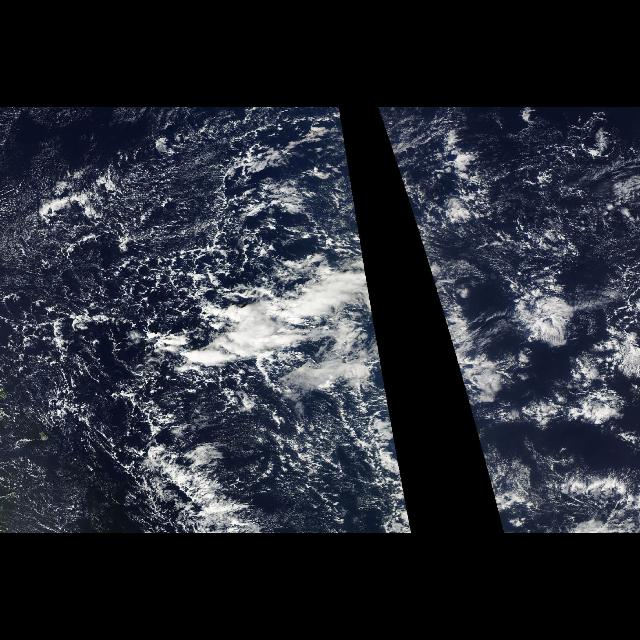Fish: (74, 220, 412, 532), (414, 220, 514, 532)
Gravel: (9, 111, 350, 449), (472, 110, 640, 300)
Sugar: (3, 107, 143, 269)
